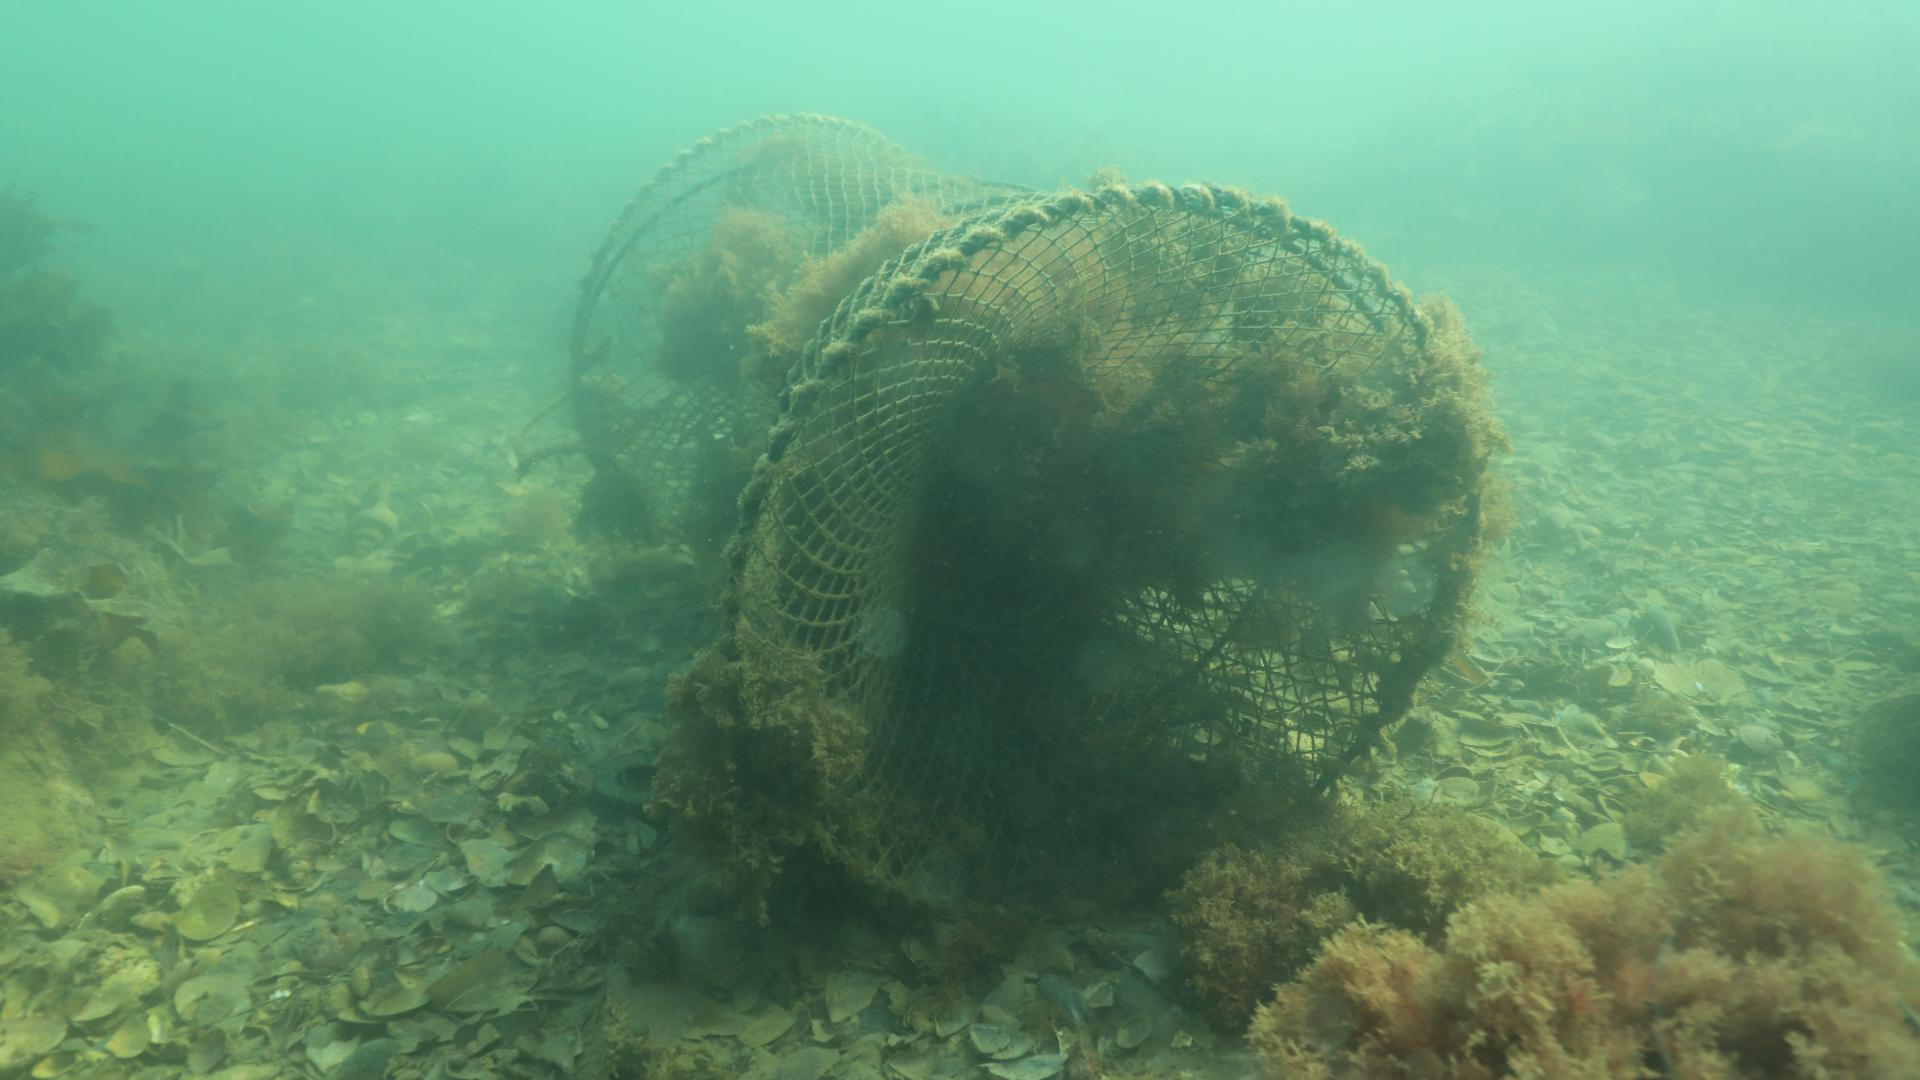spring fish trap: (567, 109, 1494, 920)
